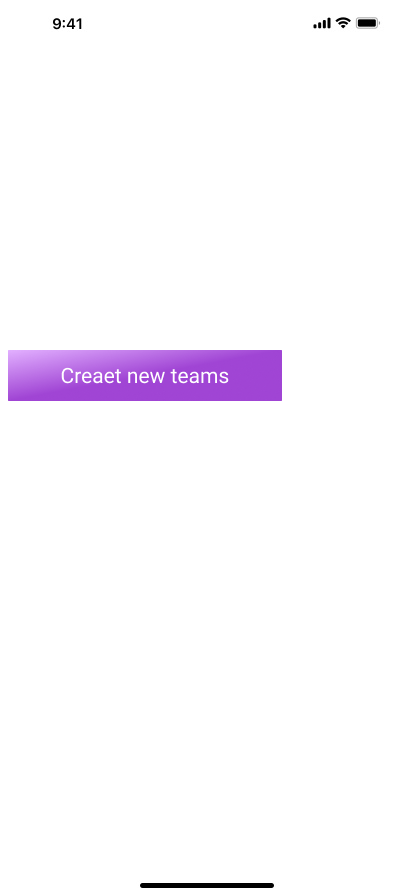Buttons: (8, 350, 282, 401)
Home Indicator: (0, 862, 414, 896)
Status Bar: (0, 0, 414, 44)
